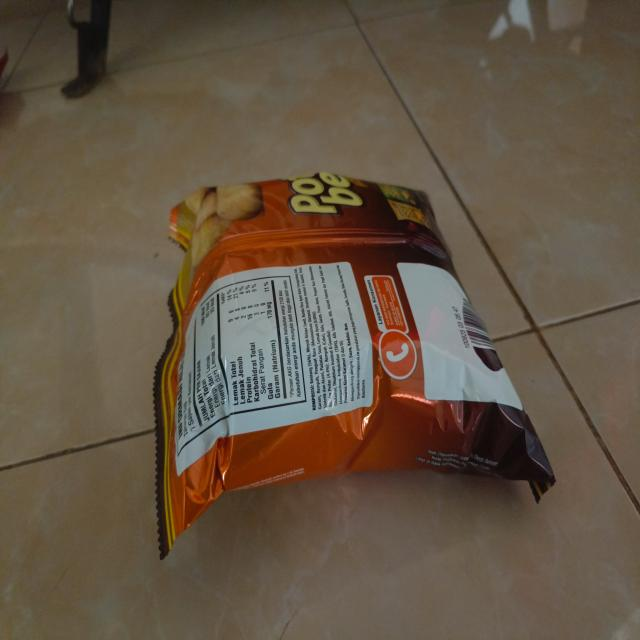potabee-ayam-bakar: (152, 170, 558, 563)
